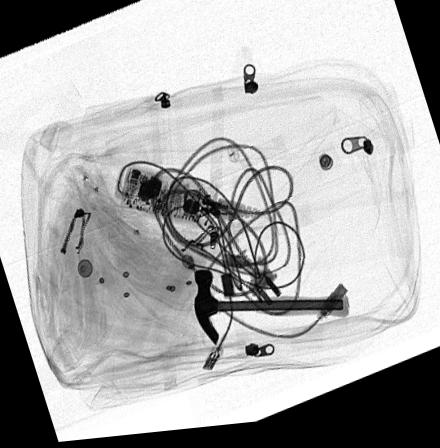Hammer: (193, 273, 349, 351)
